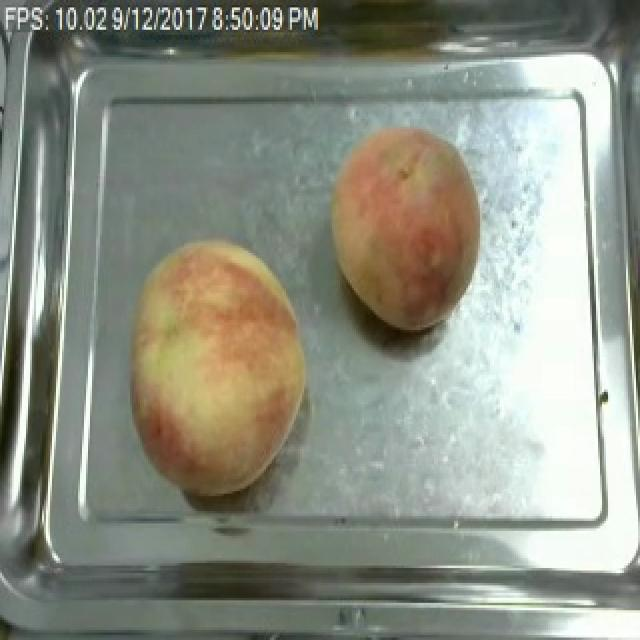Fruit: (118, 233, 320, 501), (320, 114, 490, 340)
